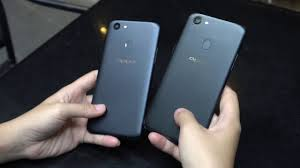oppo: (146, 10, 245, 148), (87, 15, 160, 143)
